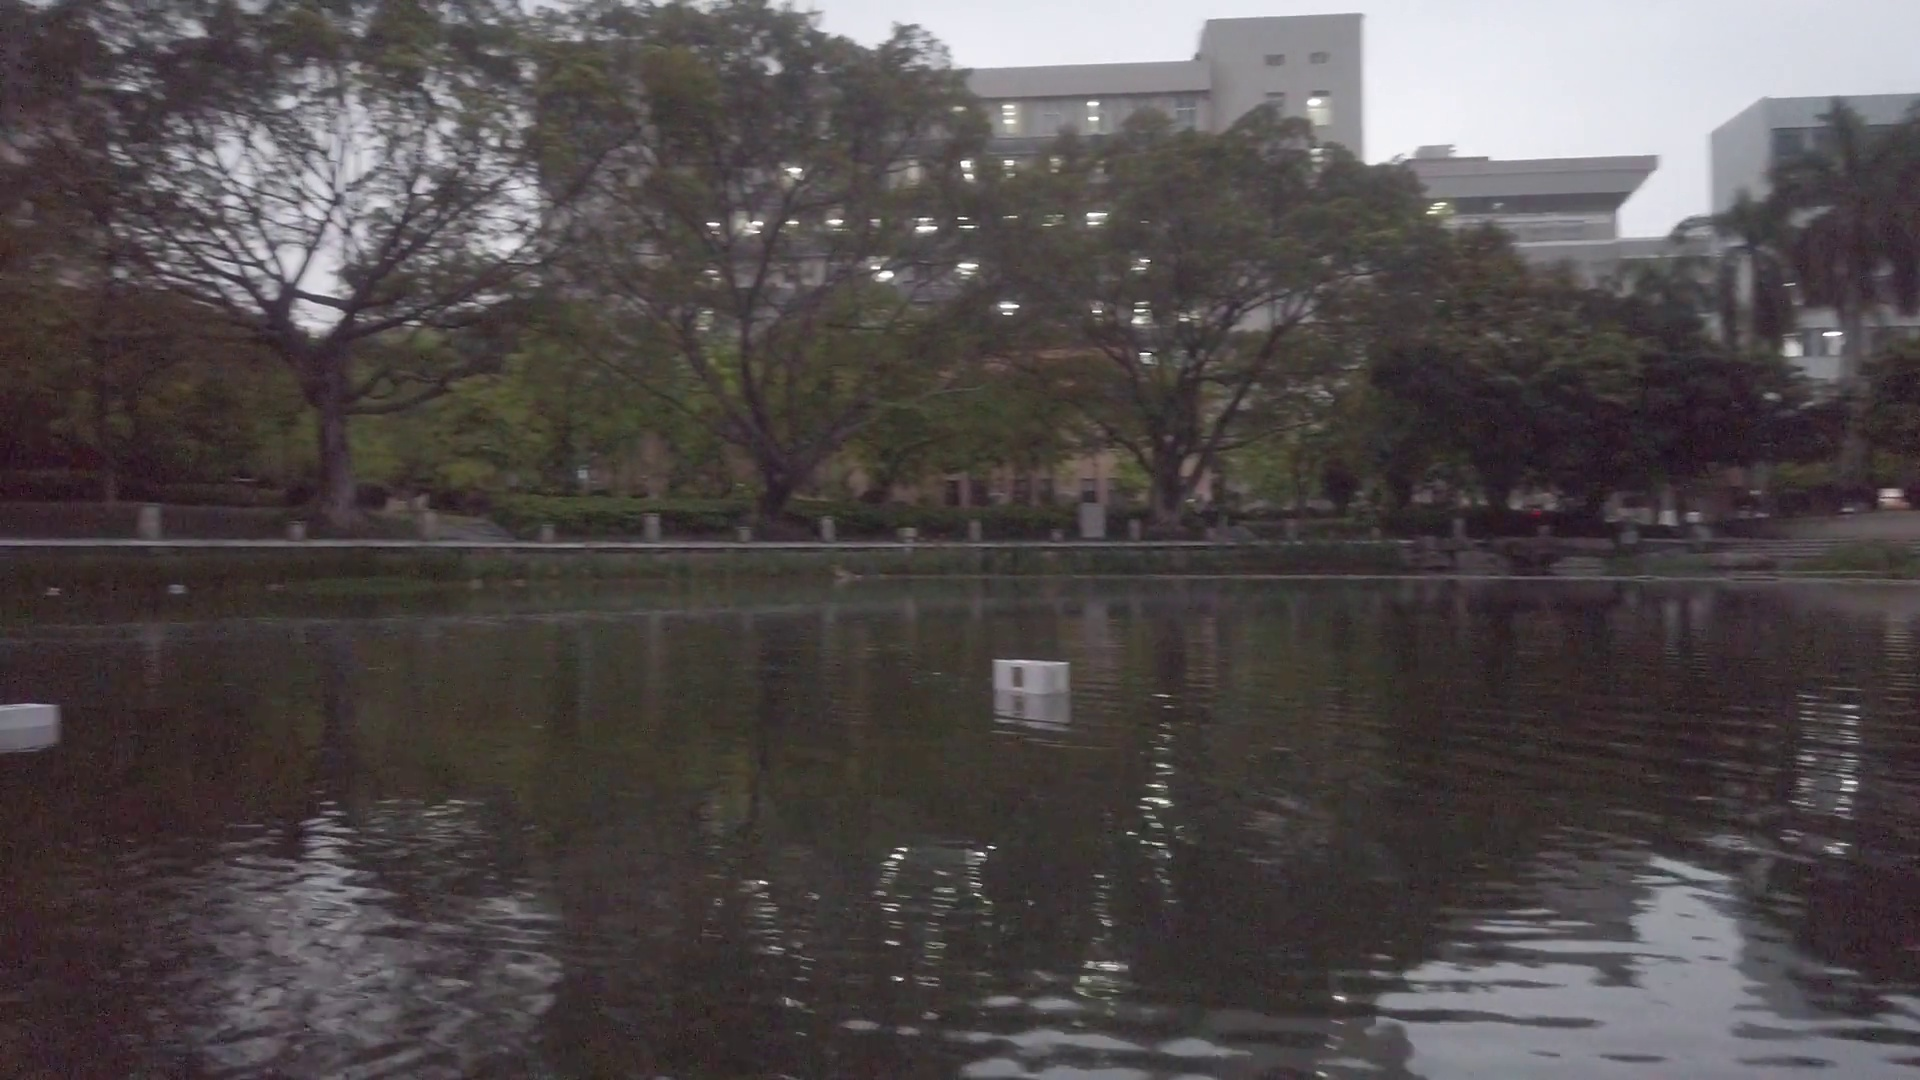carton: (992, 655, 1072, 698), (3, 704, 61, 736)
